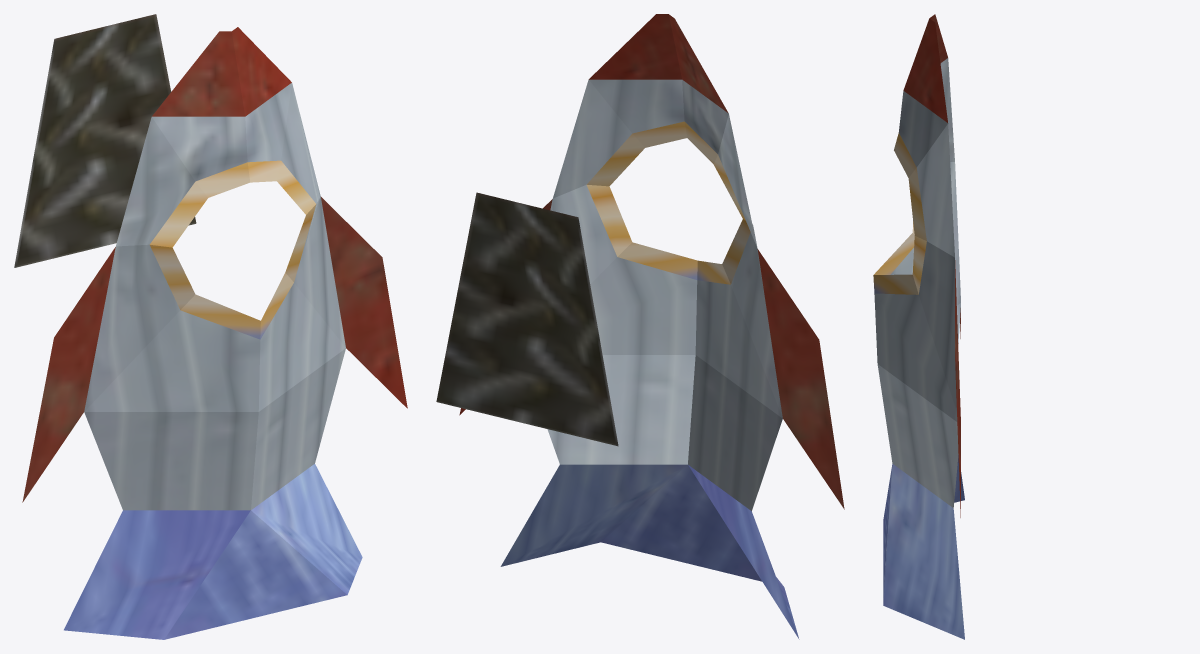
The model's file is goblin.titlescreen.jail.fbx.
3 renders of one model, left to right at view 1: azimuth 30°, elevation 25°; view 2: azimuth 150°, elevation 25°; view 3: azimuth 270°, elevation 25°, orthographic. The views are drawn at different scales.
Parts seen in each view (by area): view 1: Cylinder, Plane; view 2: Cylinder, Plane; view 3: Cylinder.
Boxes of the visible parts, x1,y1,x2,y2 form: Cylinder: (22, 27, 407, 639); Plane: (14, 14, 196, 267); Cylinder: (459, 14, 844, 639); Plane: (436, 192, 618, 446); Cylinder: (873, 14, 964, 639).
Bounding box in the file's own units: 257 × 367 × 188.
